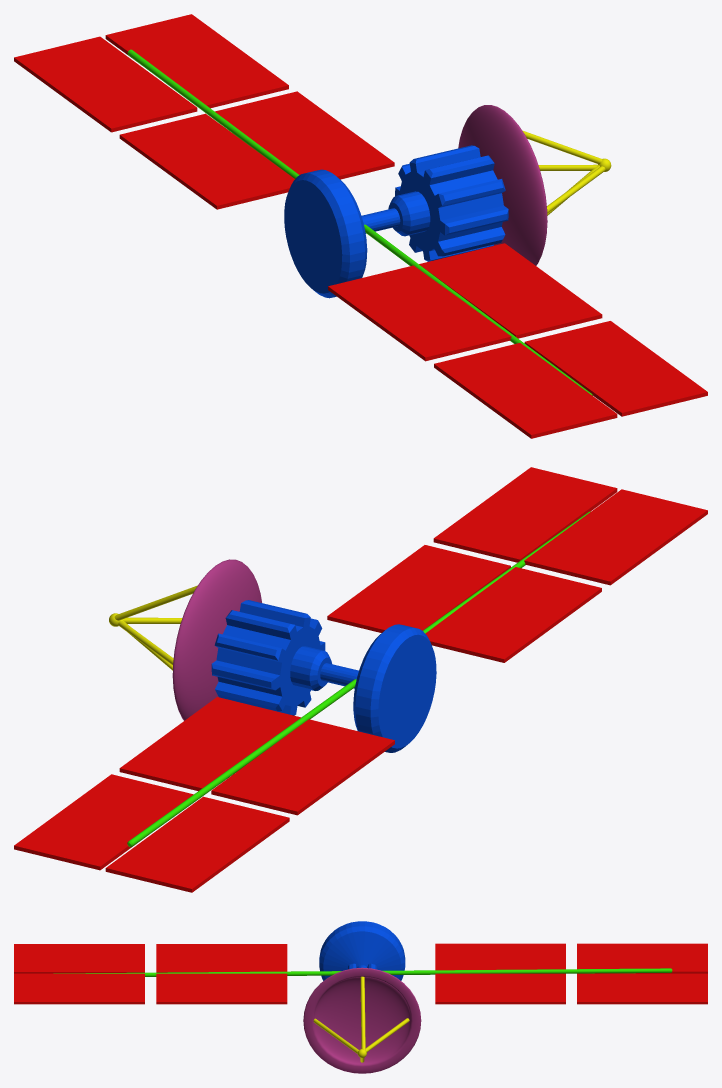
The model's file is satelite2.fbx.
3 renders of one model, top to bottom at view 1: azimuth 30°, elevation 25°; view 2: azimuth 150°, elevation 25°; view 3: azimuth 270°, elevation 25°, orthographic. The views are drawn at different scales.
Visible parts, largest first — view 1: pCylinder1, Placa_solar2, Placa_solar7, Placa_solar1, Placa_solar6, Placa_solar3, Placa_solar0, Placa_solar5, Placa_solar4, polySurface1, pCylinder2; view 2: pCylinder1, Placa_solar7, Placa_solar6, Placa_solar2, Placa_solar1, Placa_solar3, Placa_solar5, Placa_solar4, Placa_solar0, polySurface1, pCylinder2; view 3: polySurface1, Placa_solar0, Placa_solar3, Placa_solar4, Placa_solar5, Placa_solar2, Placa_solar1, Placa_solar7, pCylinder1, Placa_solar6, pCylinder2, pCylinder8.
Part boxes in pixels (x1,y1,x2,y2): pCylinder1: [284, 145, 508, 298]; Placa_solar2: [434, 343, 617, 438]; Placa_solar7: [14, 36, 197, 132]; Placa_solar1: [328, 265, 511, 361]; Placa_solar6: [119, 113, 294, 209]; Placa_solar3: [524, 321, 707, 416]; Placa_solar0: [419, 243, 602, 338]; Placa_solar5: [105, 14, 288, 108]; Placa_solar4: [215, 91, 394, 179]; polySurface1: [458, 105, 547, 265]; pCylinder2: [127, 49, 592, 395]; pCylinder1: [211, 600, 436, 752]; Placa_solar7: [105, 796, 289, 892]; Placa_solar6: [211, 719, 394, 815]; Placa_solar2: [524, 489, 707, 585]; Placa_solar1: [425, 567, 601, 662]; Placa_solar3: [433, 467, 617, 562]; Placa_solar5: [14, 774, 193, 870]; Placa_solar4: [119, 697, 300, 791]; Placa_solar0: [327, 545, 510, 632]; polySurface1: [172, 559, 261, 720]; pCylinder2: [127, 511, 590, 847]; polySurface1: [303, 967, 421, 1073]; Placa_solar0: [156, 973, 287, 1004]; Placa_solar3: [14, 973, 144, 1004]; Placa_solar4: [435, 973, 565, 1004]; Placa_solar5: [577, 973, 707, 1004]; Placa_solar2: [14, 944, 144, 973]; Placa_solar1: [156, 944, 287, 972]; Placa_solar7: [577, 943, 707, 973]; pCylinder1: [319, 921, 405, 980]; Placa_solar6: [435, 943, 565, 970]; pCylinder2: [53, 968, 672, 976]; pCylinder8: [360, 976, 365, 1049].
Size of the model in its own units: 20 by 8.95 by 52.71.
